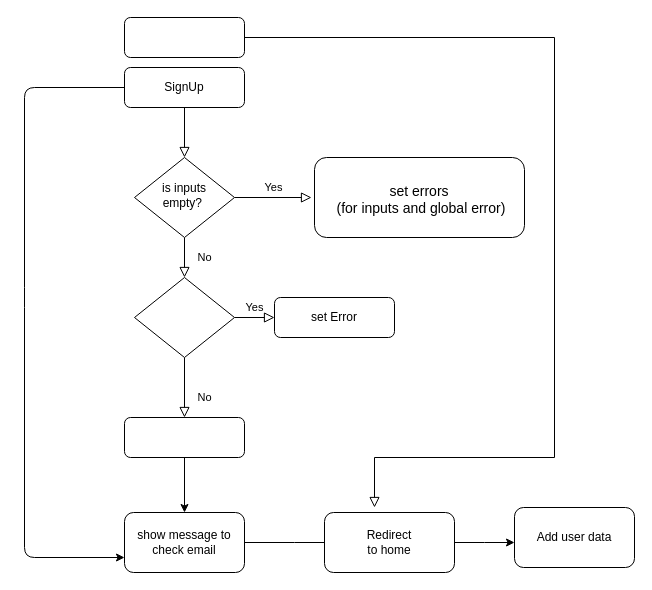
This 652x590 diagram has some shape labels left out. The box of each missing label's shape, as (x1, y1, x2, y2) in pixels:
Catch Error?: (134, 276, 234, 358)
Login: (124, 16, 244, 58)
Set user data: (124, 416, 244, 458)
